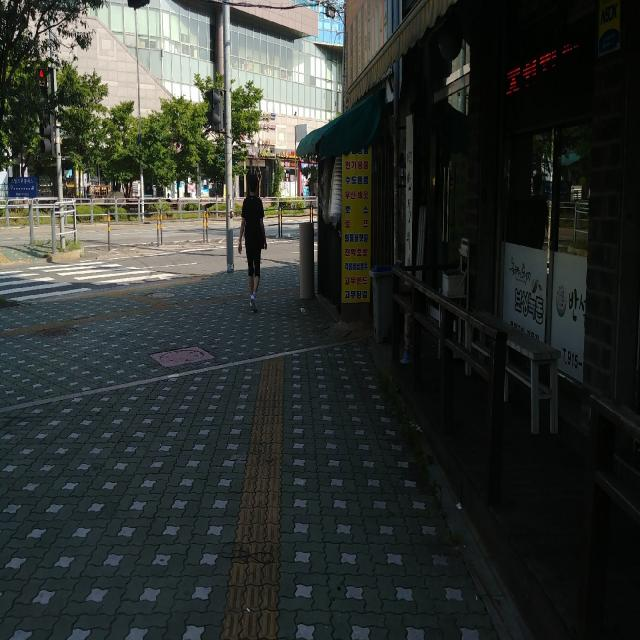횡단보도: (0, 261, 178, 302)
